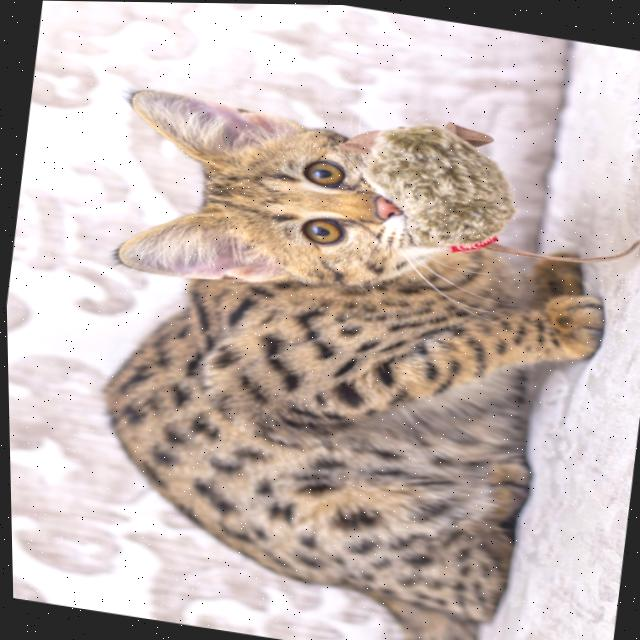Savannah: (44, 79, 633, 640)
